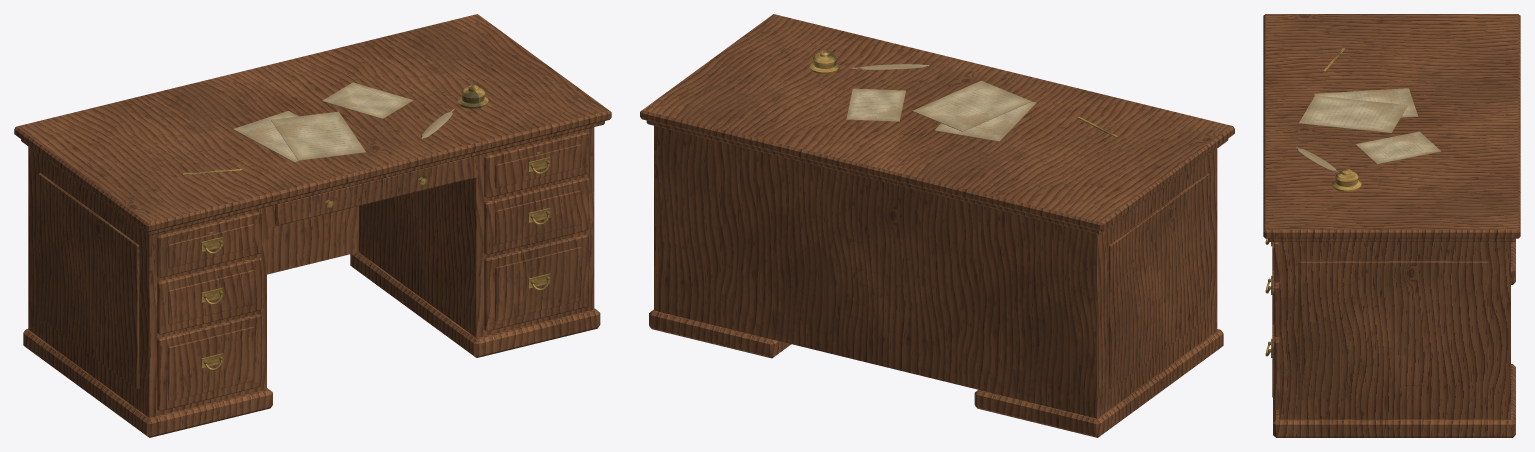
Rendered from lib_desk.obj.
3 renders of one model, left to right at view 1: azimuth 30°, elevation 25°; view 2: azimuth 150°, elevation 25°; view 3: azimuth 270°, elevation 25°, orthographic. The views are drawn at different scales.
Visible parts, largest first — view 1: lib_desk_wood_dark, lib_desk_paper, lib_desk_brass; view 2: lib_desk_wood_dark, lib_desk_paper, lib_desk_brass; view 3: lib_desk_wood_dark, lib_desk_paper, lib_desk_brass.
Boxes of the visible parts, x1,y1,x2,y2 form: lib_desk_wood_dark: (14, 14, 611, 437); lib_desk_paper: (233, 82, 454, 162); lib_desk_brass: (182, 85, 550, 370); lib_desk_wood_dark: (640, 14, 1234, 437); lib_desk_paper: (846, 64, 1036, 141); lib_desk_brass: (809, 50, 1117, 137); lib_desk_wood_dark: (1263, 14, 1520, 437); lib_desk_paper: (1295, 88, 1441, 173); lib_desk_brass: (1265, 48, 1361, 357).
Size of the model in its own units: 1.6 by 0.78 by 0.8.
Materials: 3 (3 with a texture image).
